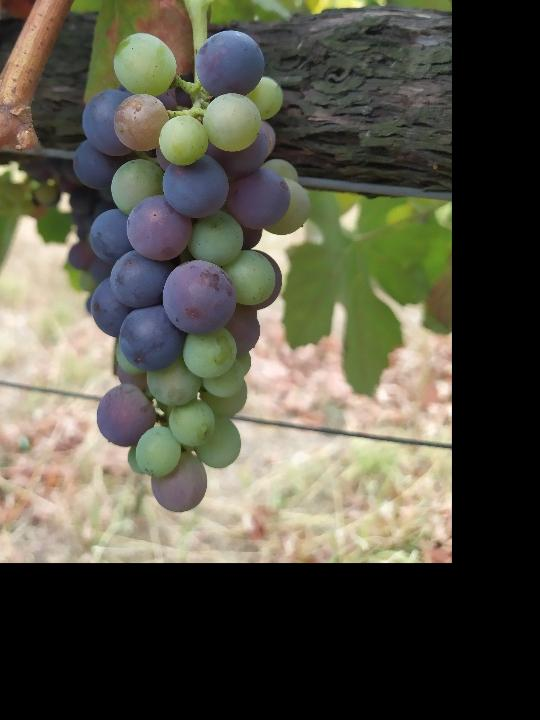grape: (71, 28, 315, 514)
